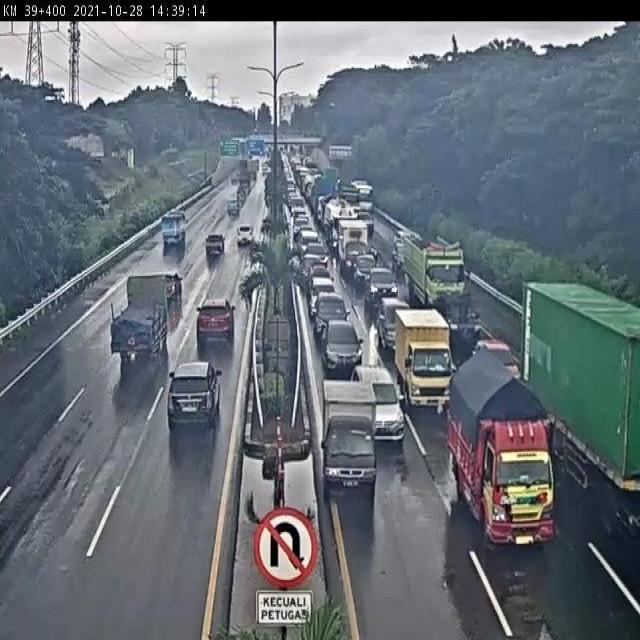big truck: (513, 268, 640, 547), (400, 228, 466, 308)
car: (159, 352, 229, 444), (350, 351, 409, 444), (186, 288, 244, 357), (317, 317, 364, 379), (438, 287, 481, 353), (308, 291, 350, 344), (477, 327, 515, 380), (375, 295, 412, 344), (367, 265, 402, 312), (194, 228, 231, 268), (349, 250, 385, 286), (231, 220, 257, 247)
mid truck: (439, 328, 562, 541), (106, 270, 194, 370), (393, 302, 452, 414), (155, 207, 188, 250)
small truck: (311, 364, 385, 501)
